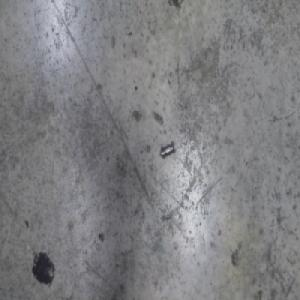Bolt: (160, 140, 175, 159)
